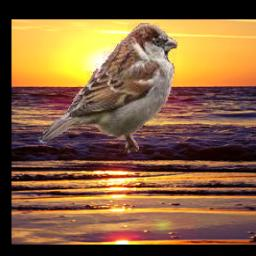Sparrow: (38, 23, 178, 153)
